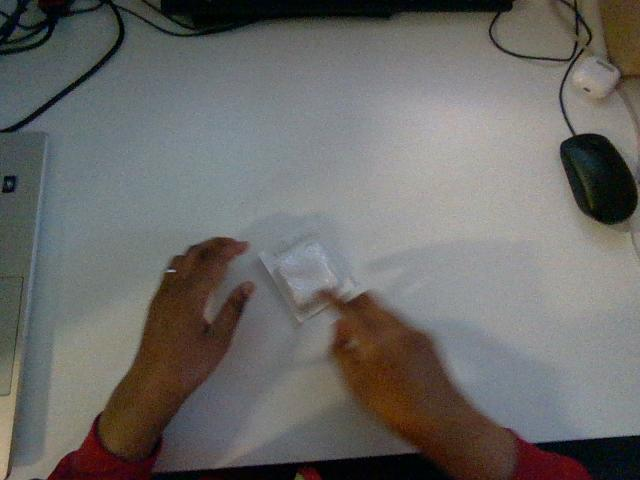gauze: (259, 236, 355, 321)
